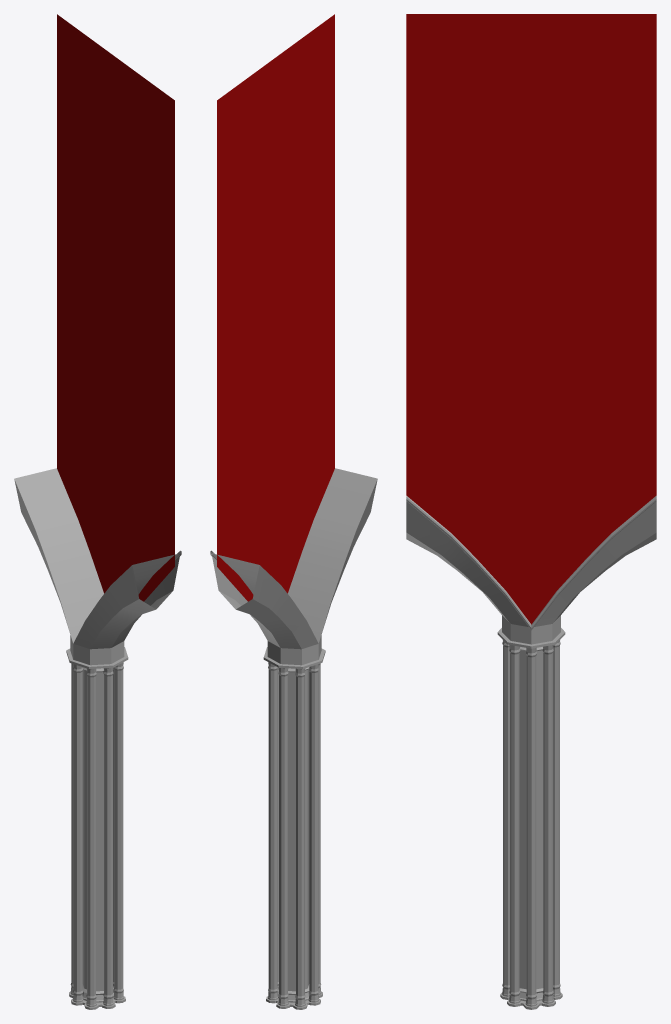
The model's file is Pillar.fbx.
3 views of the same model, side by side, from view 1: azimuth 30°, elevation 25°; view 2: azimuth 150°, elevation 25°; view 3: azimuth 270°, elevation 25° (orthographic). The views are drawn at different scales.
Visible parts, largest first — view 1: Pillar; view 2: Pillar; view 3: Pillar.
Part boxes in pixels (x1=…): Pillar: x1=14, y1=14, x2=181, y2=1009; Pillar: x1=210, y1=14, x2=377, y2=1009; Pillar: x1=406, y1=14, x2=656, y2=1009.
Bounding box in the file's own units: 10.83 × 175 × 40.
